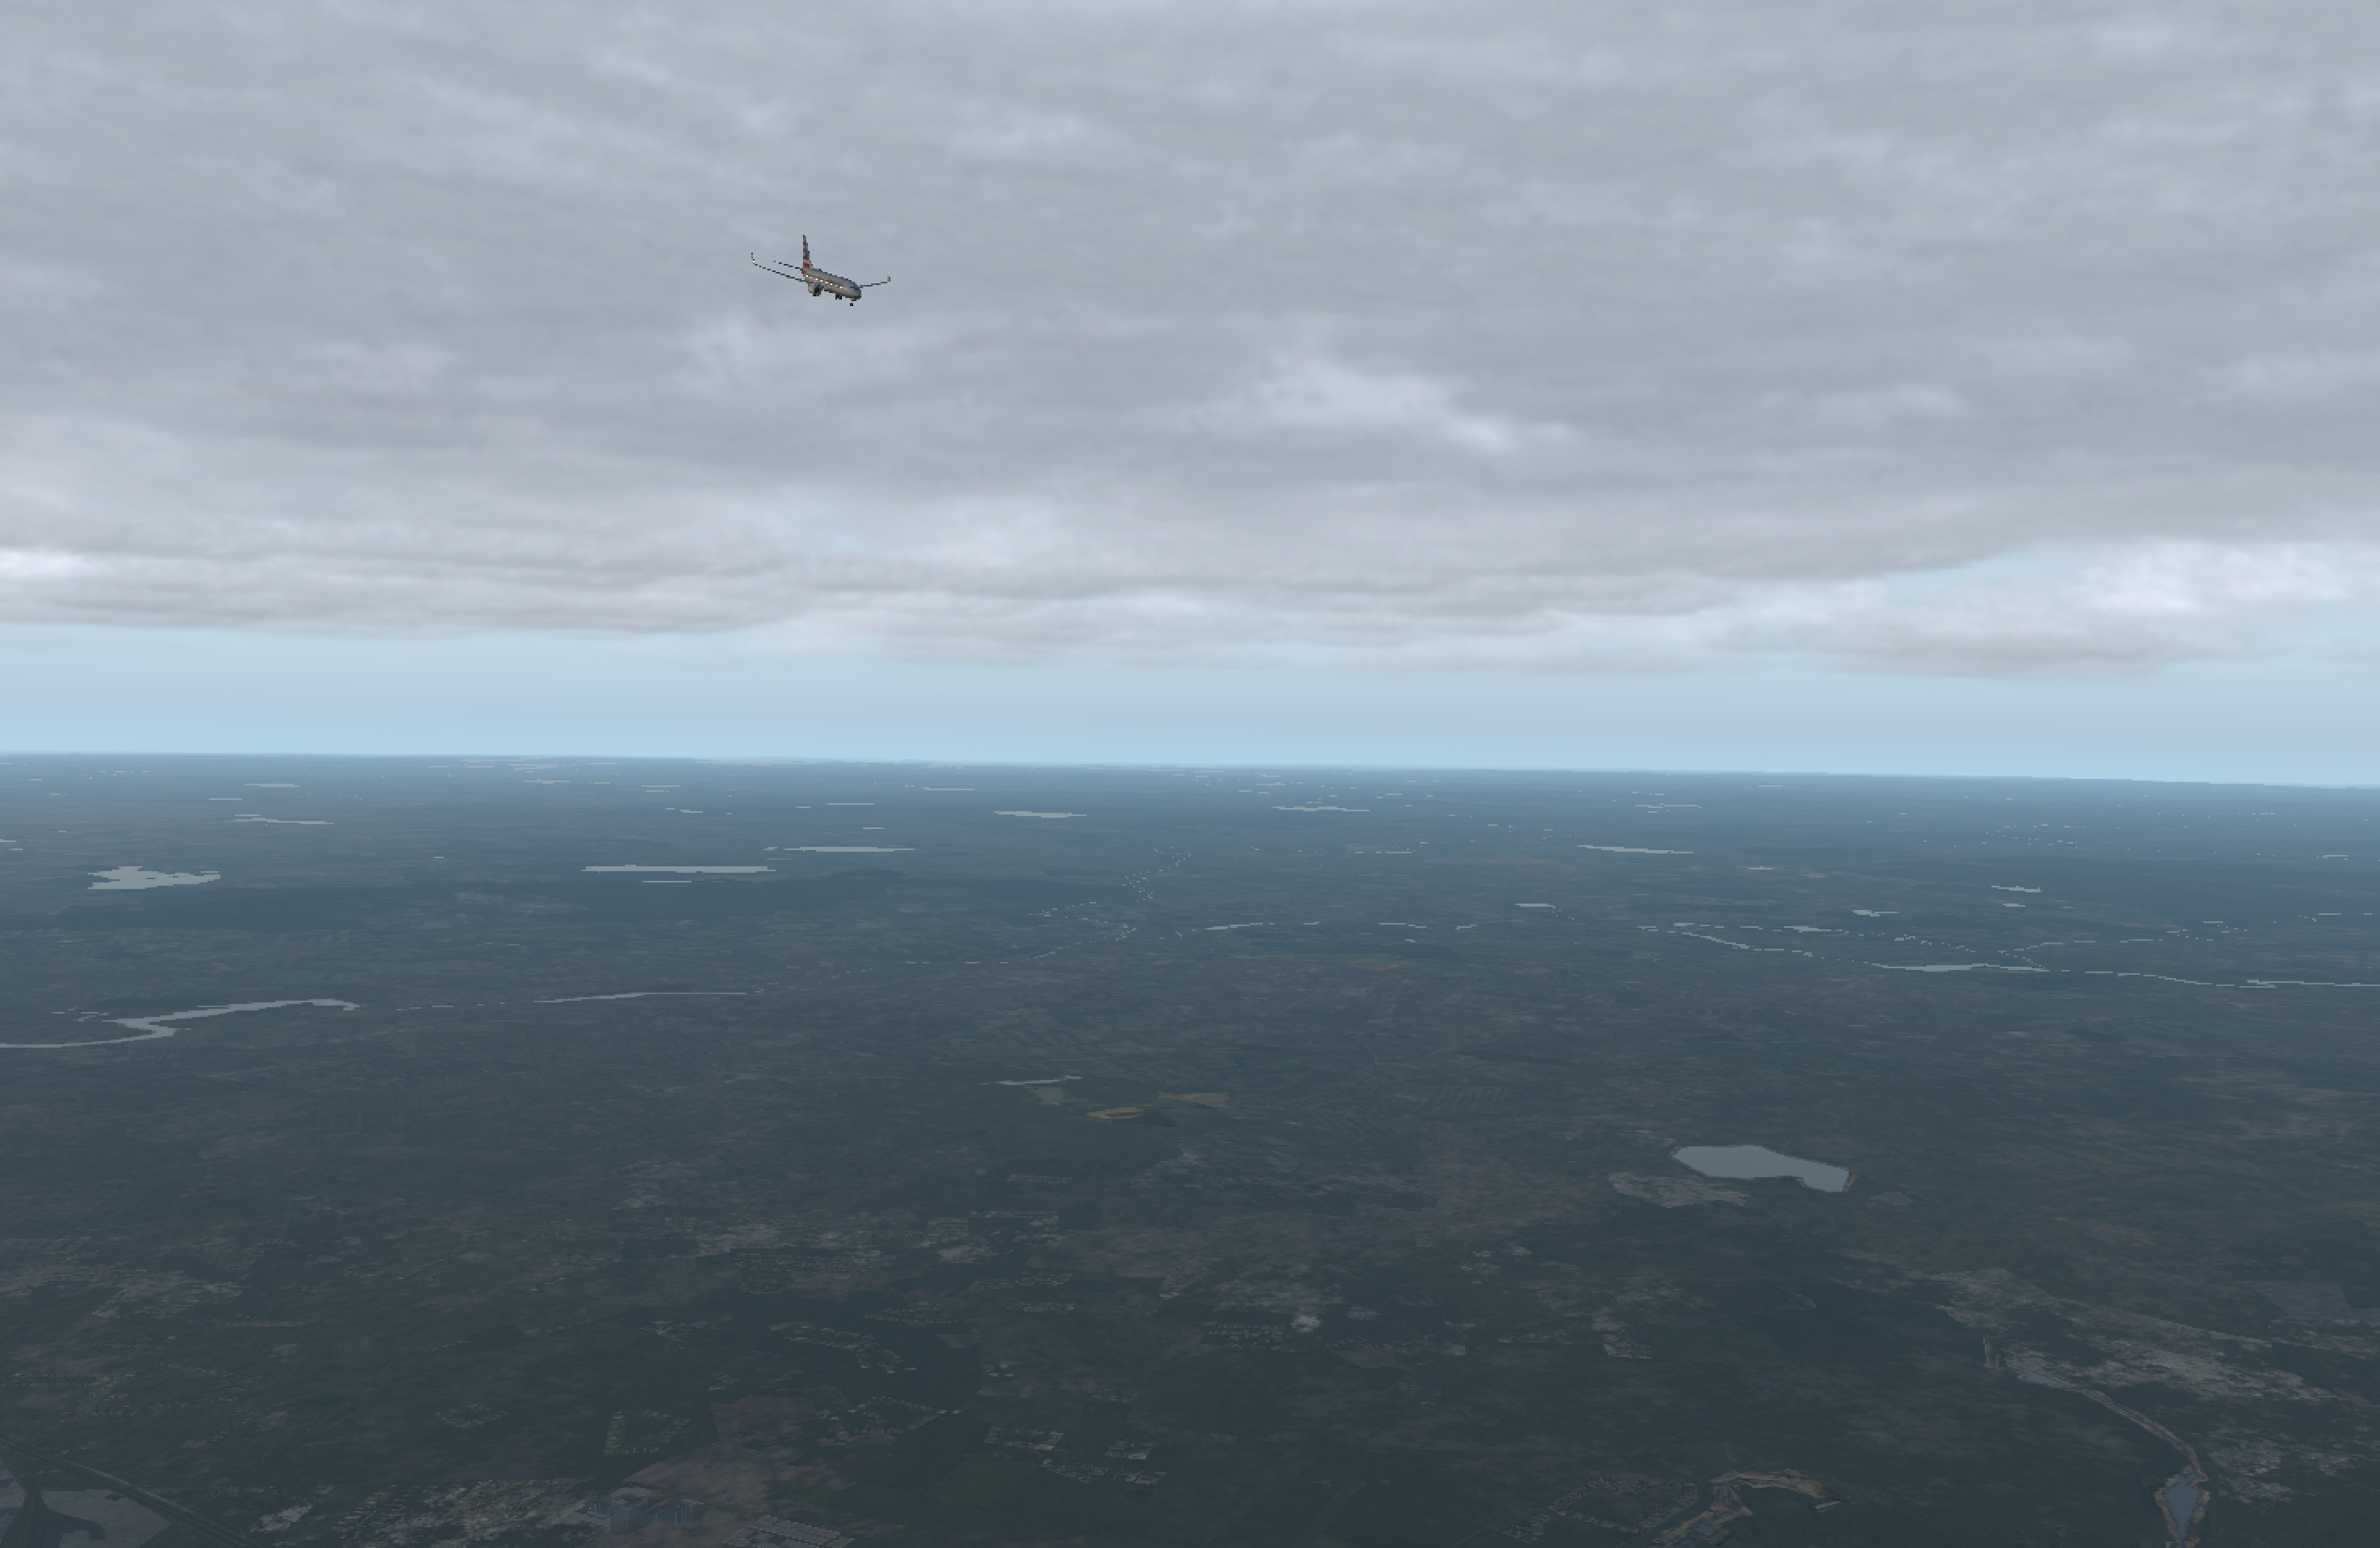aircraft: (749, 255, 911, 316)
